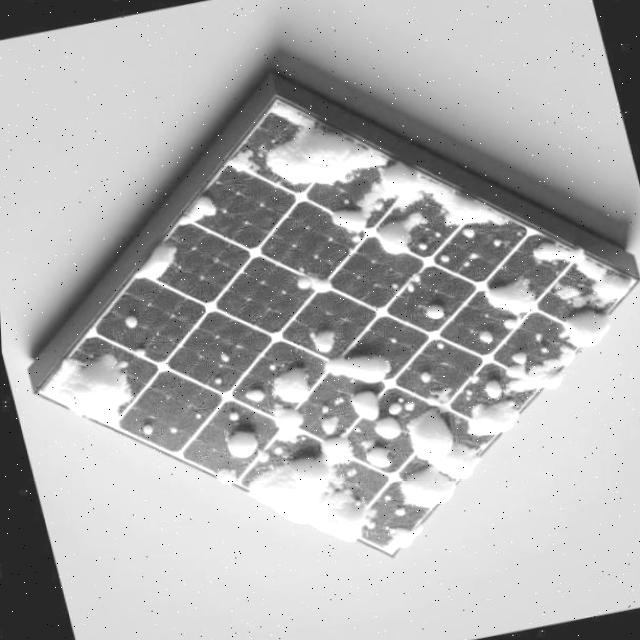Anomaly Solar Panel: (32, 59, 635, 620)
Snow: (224, 96, 391, 228), (238, 432, 390, 576), (324, 155, 508, 243), (363, 402, 482, 523), (516, 232, 632, 330), (472, 320, 574, 423), (37, 337, 141, 436), (370, 205, 432, 263), (480, 279, 542, 336), (457, 398, 520, 444), (551, 309, 613, 352), (130, 243, 178, 294), (369, 512, 416, 558), (263, 367, 311, 411), (321, 361, 388, 386), (175, 198, 216, 238), (351, 437, 392, 476), (270, 408, 299, 451), (222, 430, 253, 463), (291, 275, 329, 299), (367, 418, 399, 443), (313, 408, 339, 438), (420, 305, 445, 326), (308, 332, 329, 356), (210, 470, 232, 489), (239, 389, 260, 405)
